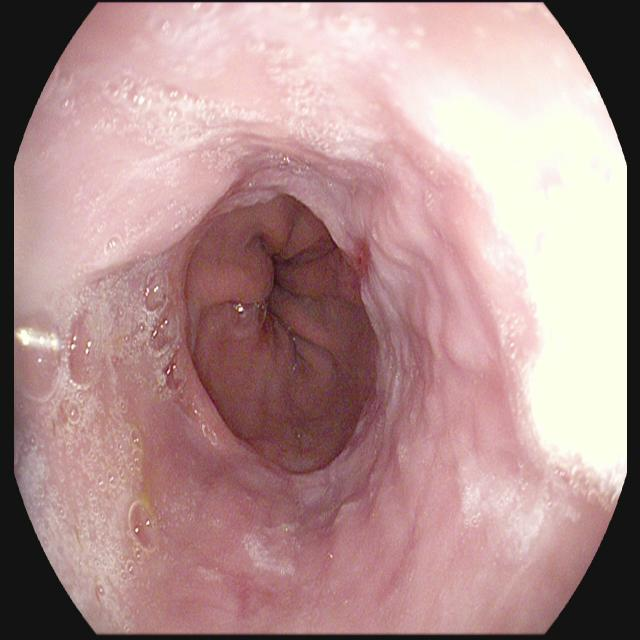esophagitis: (18, 94, 623, 637)
